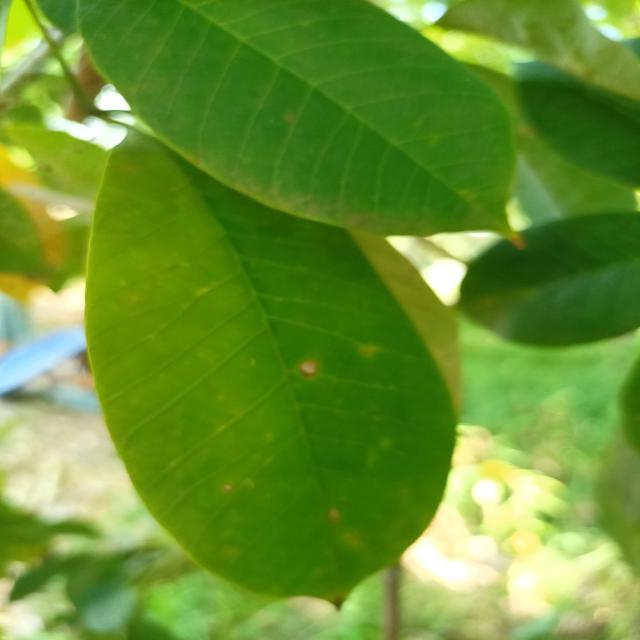Colletotrichum: (299, 360, 319, 378)
